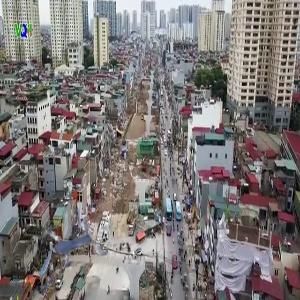drone: (35, 206, 114, 285)
